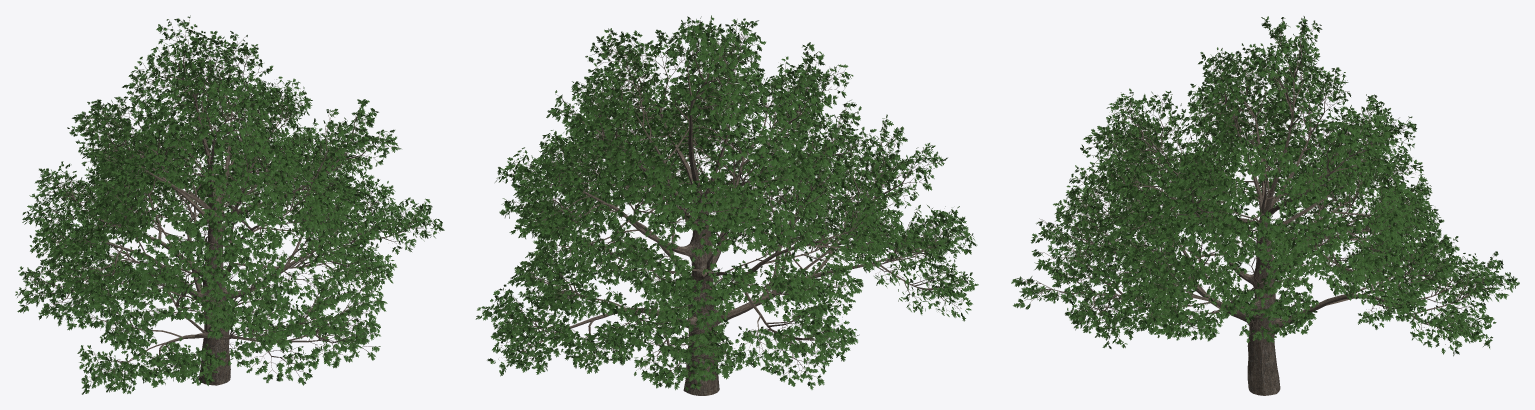
File: Tree_A.fbx
The picture shows the model from 3 angles, left to right: view 1: azimuth 30°, elevation 25°; view 2: azimuth 150°, elevation 25°; view 3: azimuth 270°, elevation 25°; orthographic projection. The views are drawn at different scales.
Visible parts, largest first — view 1: Tree_A; view 2: Tree_A; view 3: Tree_A.
Part boxes in pixels (bbox=[...]): Tree_A: bbox=[15, 15, 444, 394]; Tree_A: bbox=[475, 15, 978, 395]; Tree_A: bbox=[1011, 16, 1519, 395].
Bounding box in the file's own units: 15.61 × 17.87 × 14.
